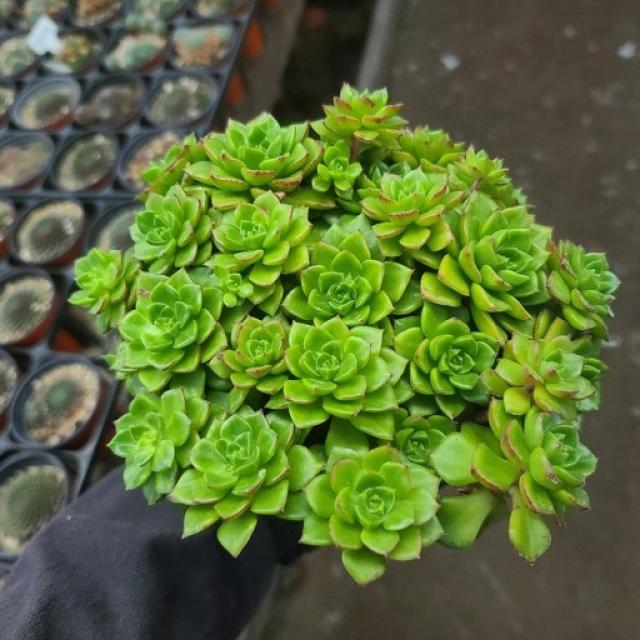Letizia: (431, 400, 596, 559), (169, 408, 324, 556), (409, 191, 551, 341), (301, 445, 444, 584), (268, 318, 412, 439), (185, 114, 335, 211), (119, 269, 226, 391), (284, 225, 412, 326), (109, 388, 210, 503), (361, 169, 462, 256), (311, 84, 406, 154), (69, 248, 140, 332)
